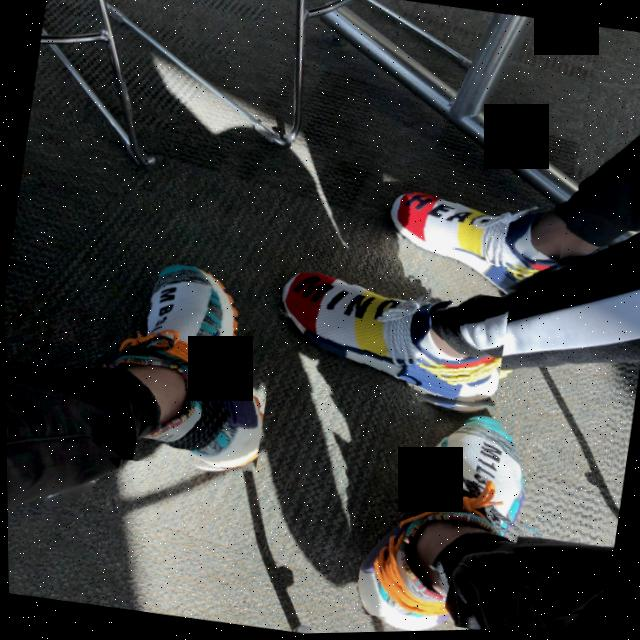shoe: (83, 254, 285, 482), (349, 403, 536, 634), (267, 266, 511, 426), (377, 184, 570, 304)
